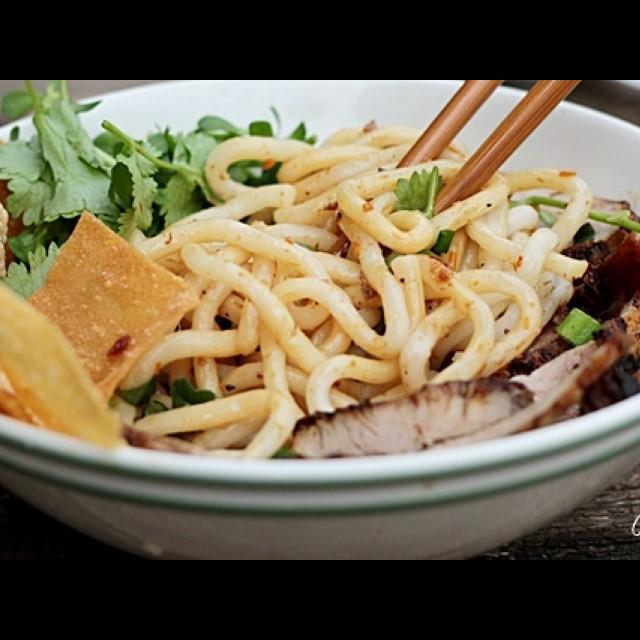banh da: (15, 204, 198, 419), (0, 247, 132, 450), (0, 103, 30, 253)
mi: (101, 116, 594, 466)
thit heo: (494, 190, 640, 444), (286, 372, 544, 481)
